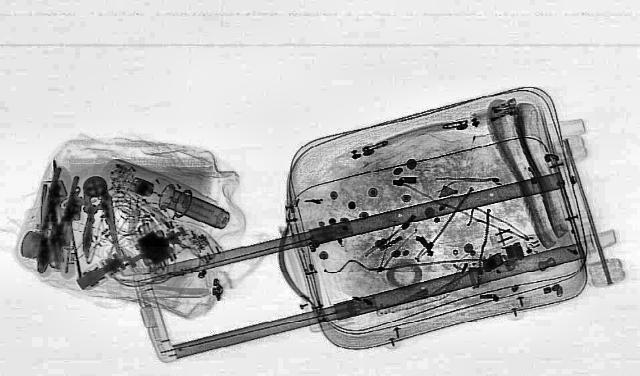Pliers: (72, 175, 122, 259), (42, 176, 78, 254)
